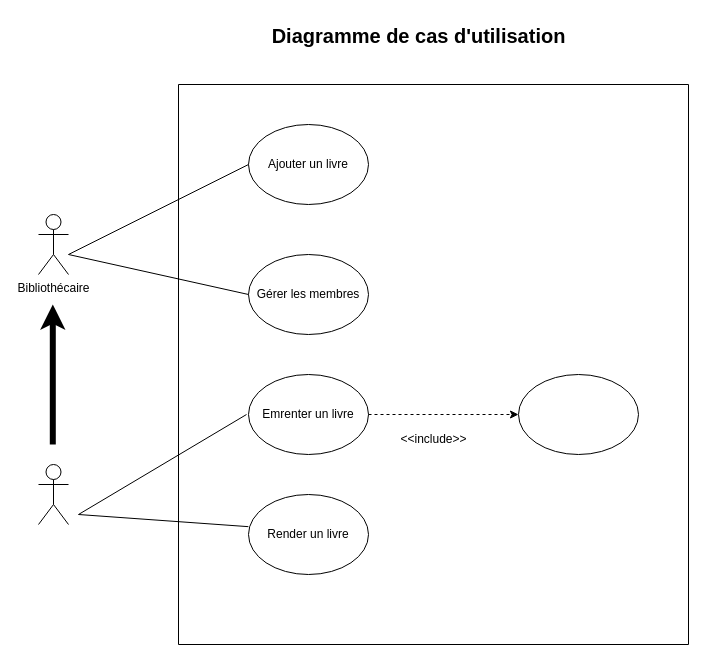
This 706x662 diagram has some shape labels left out. Each missing label, with the box of its shape:
Membre: (38, 464, 68, 524)
Verification de disponibilité: (518, 374, 638, 454)
